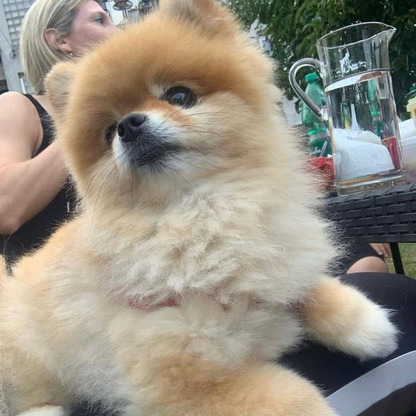Pomeranian: (29, 16, 321, 363)
